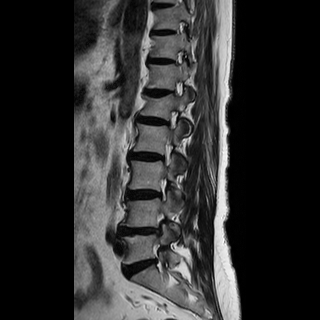LFS0: (156, 104, 181, 135)
